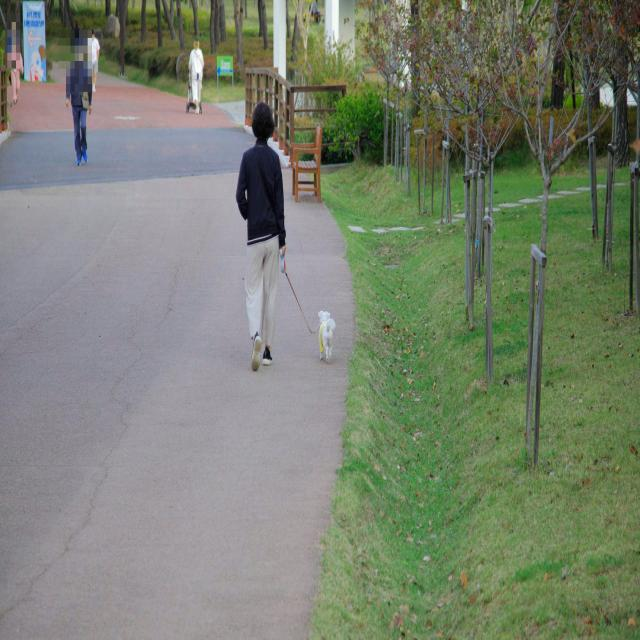Leashed_Dog: (262, 243, 336, 364)
